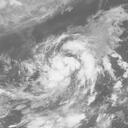cyclone: (44, 42, 100, 86)
